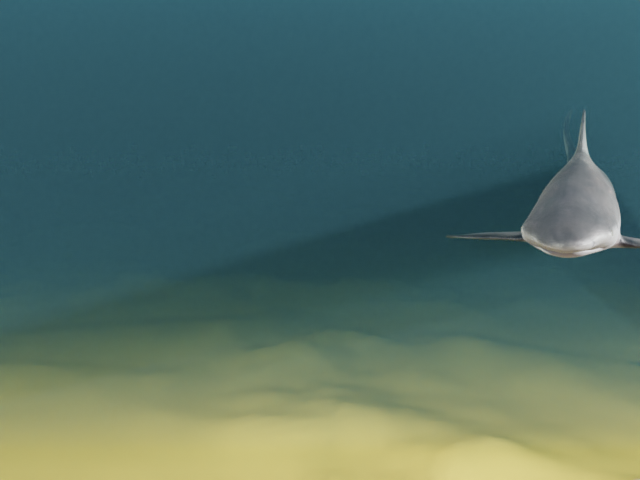Carribean Shark.001: (445, 109, 640, 257)
